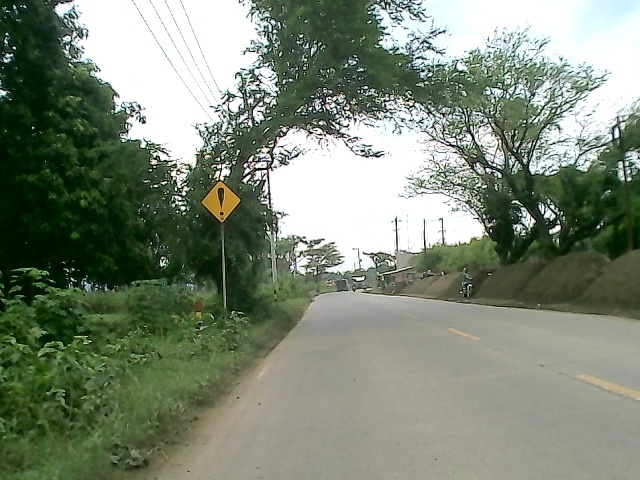Hati-hati: (199, 180, 244, 226)
